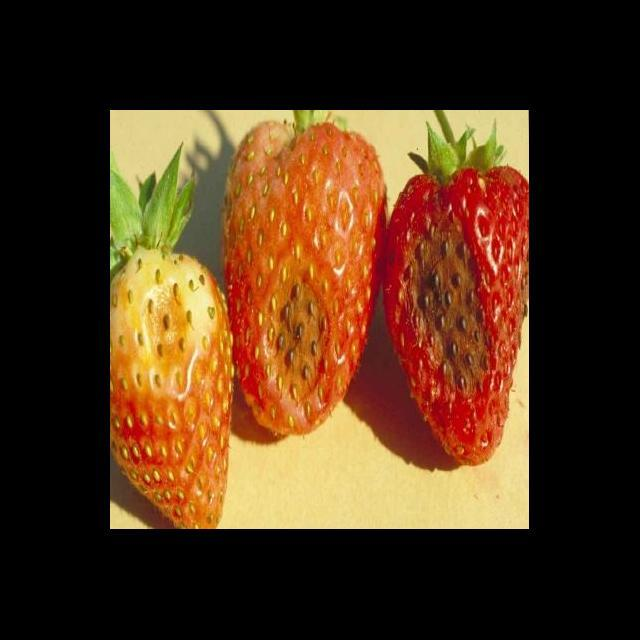Anthracnose Fruit Rot: (399, 212, 499, 402), (111, 246, 220, 405), (250, 247, 337, 407)
